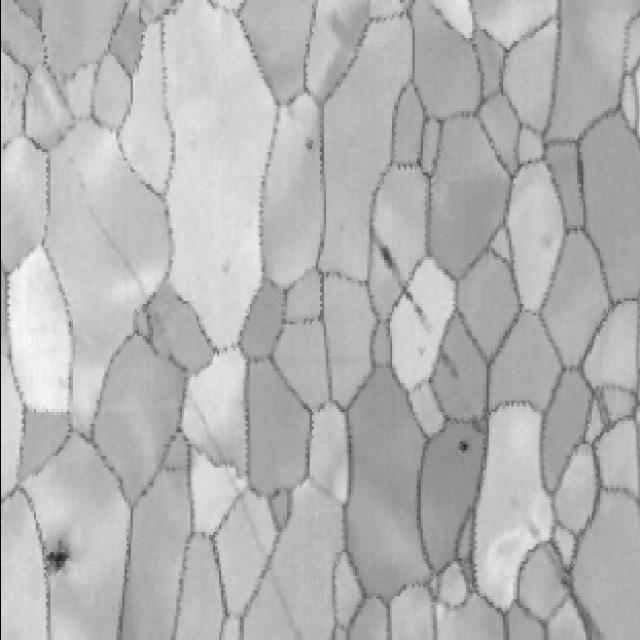good_void: (377, 239, 400, 282), (58, 530, 76, 583), (450, 431, 475, 467), (536, 223, 556, 256), (302, 136, 315, 160), (215, 259, 231, 278)
